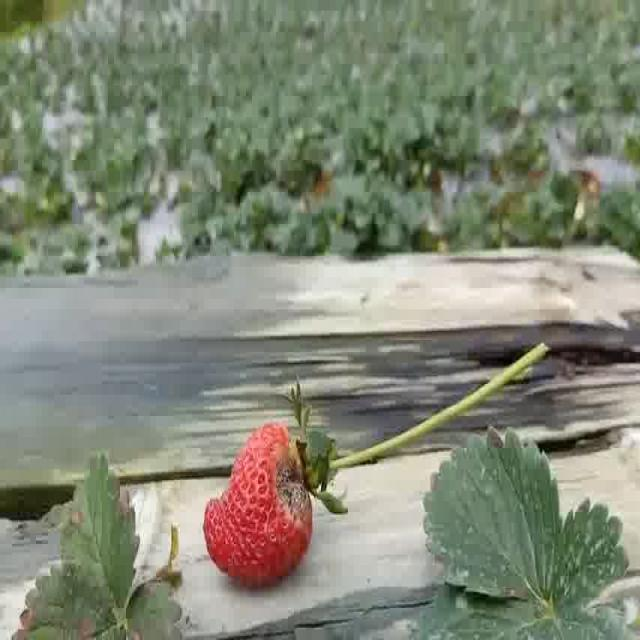Mancha negra Antracnosis: (200, 415, 314, 585)
